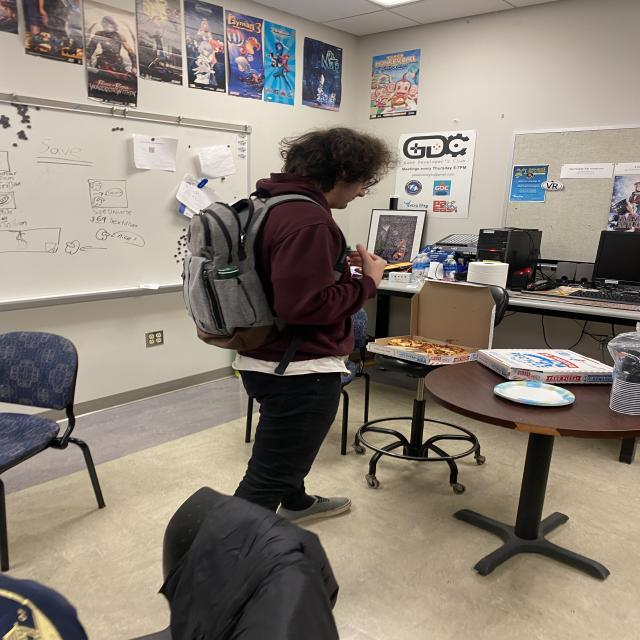Backpacks: (180, 206, 271, 348)
